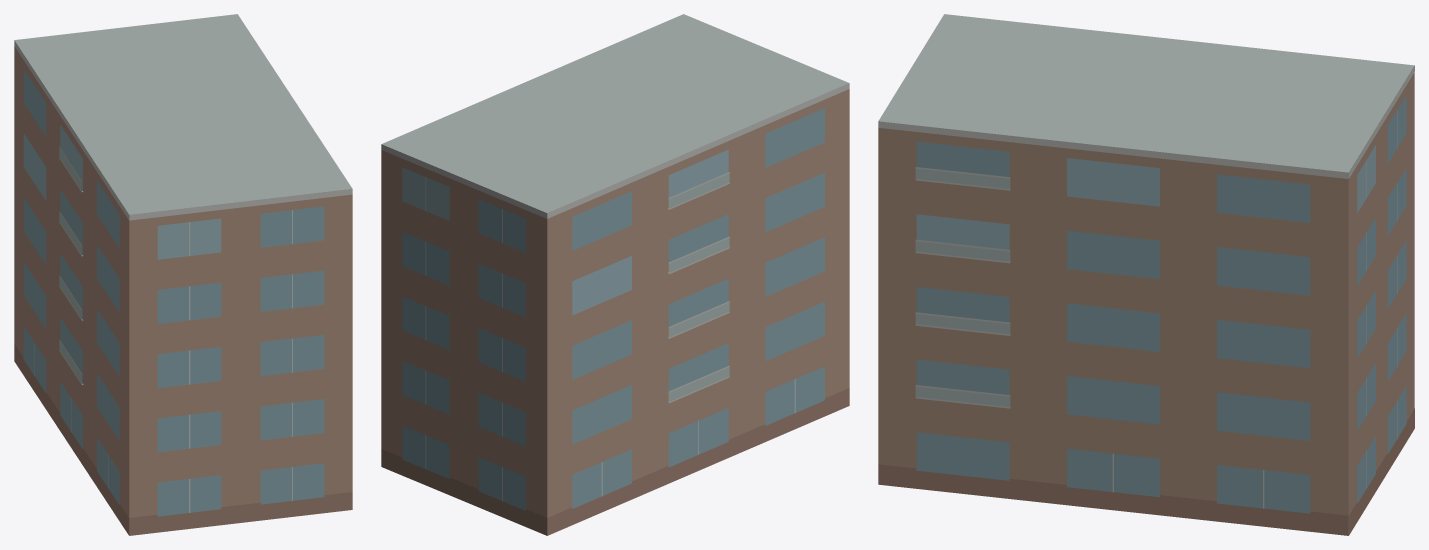
The model's file is survey-upis-32538282.glb.
3 renders of one model, left to right at view 1: azimuth 30°, elevation 25°; view 2: azimuth 150°, elevation 25°; view 3: azimuth 270°, elevation 25°, orthographic. The views are drawn at different scales.
Visible parts, largest first — view 1: survey-upis-32538282.tmp; view 2: survey-upis-32538282.tmp; view 3: survey-upis-32538282.tmp.
Boxes of the visible parts, bbox=[...] form: survey-upis-32538282.tmp: bbox=[14, 14, 352, 535]; survey-upis-32538282.tmp: bbox=[381, 14, 849, 535]; survey-upis-32538282.tmp: bbox=[878, 14, 1414, 535].
Size of the model in its own units: 12.84 by 13.7 by 18.34.
